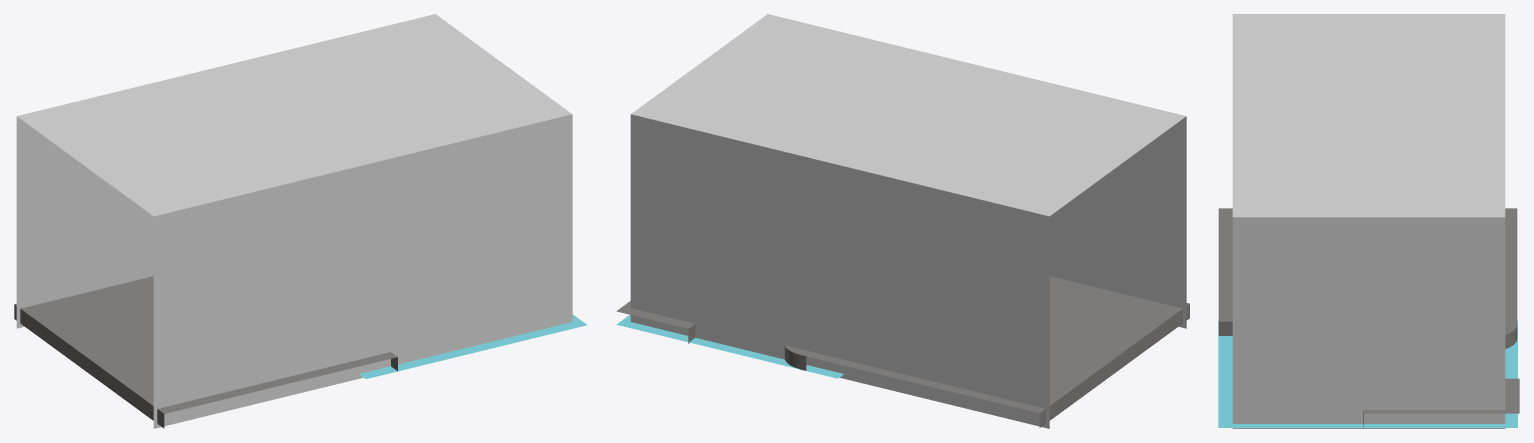
The model's file is door_box.fbx.
3 renders of one model, left to right at view 1: azimuth 30°, elevation 25°; view 2: azimuth 150°, elevation 25°; view 3: azimuth 270°, elevation 25°, orthographic.
Parts seen in each view (by area): view 1: box, floor1, water; view 2: box, floor1, water, floor2; view 3: box, floor1, water, floor2.
Part boxes in pixels (x1,y1,x2,y2): box: (16,14,572,428); floor1: (14,276,397,428); water: (359,314,587,378); box: (630,14,1186,428); floor1: (784,276,1189,427); water: (616,315,843,378); floor2: (616,301,695,343); box: (1232,14,1505,428); floor1: (1218,208,1517,348); water: (1218,320,1517,427); floor2: (1363,378,1519,428).
Size of the model in its own units: 2649 by 1260 by 1625.
